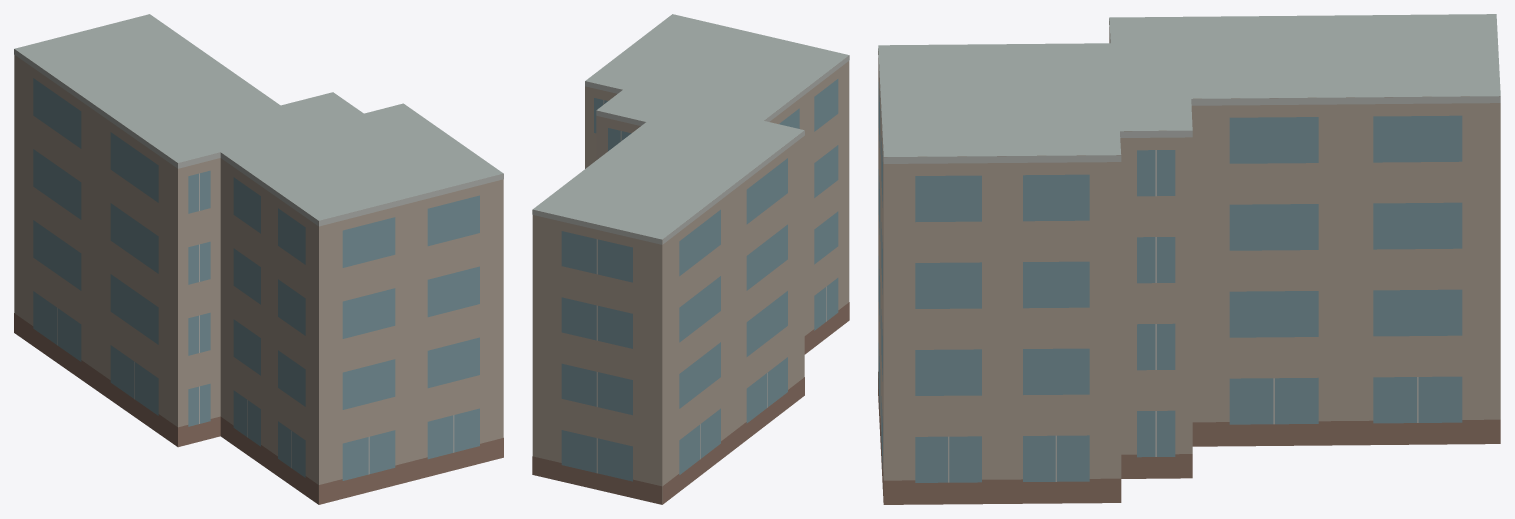
The model's file is residential-311d3e83-5f75-4436-bad8-943c310bdc41.glb.
3 renders of one model, left to right at view 1: azimuth 30°, elevation 25°; view 2: azimuth 150°, elevation 25°; view 3: azimuth 270°, elevation 25°, orthographic. The views are drawn at different scales.
Visible parts, largest first — view 1: residential-311d3e83-5f75-4436-bad8-943c310bdc41.tmp; view 2: residential-311d3e83-5f75-4436-bad8-943c310bdc41.tmp; view 3: residential-311d3e83-5f75-4436-bad8-943c310bdc41.tmp.
Boxes of the visible parts, left/top/right/bottom form: residential-311d3e83-5f75-4436-bad8-943c310bdc41.tmp: left=14, top=14, right=503, bottom=504; residential-311d3e83-5f75-4436-bad8-943c310bdc41.tmp: left=532, top=14, right=849, bottom=504; residential-311d3e83-5f75-4436-bad8-943c310bdc41.tmp: left=878, top=14, right=1500, bottom=504.
Bounding box in the file's own units: 10.77 × 12.2 × 19.8.
